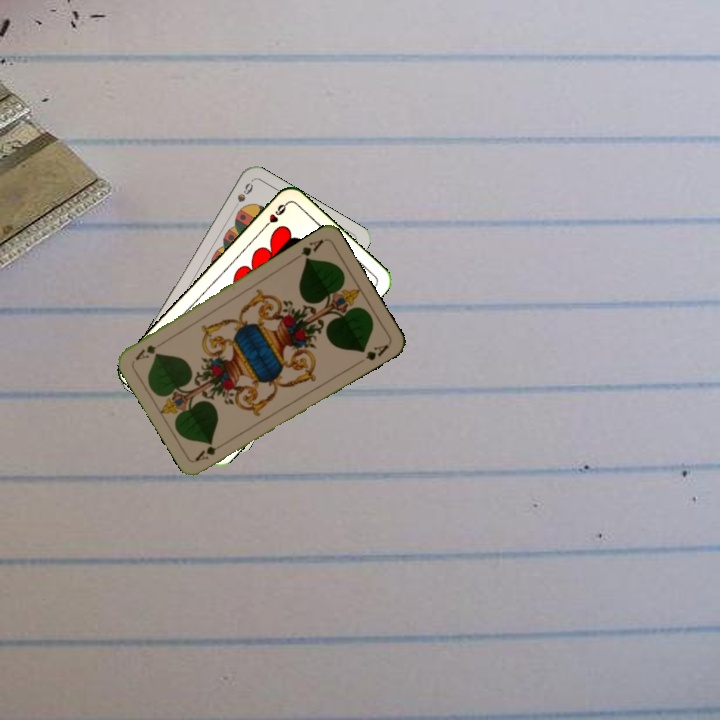GA: (290, 235, 326, 264), (191, 438, 229, 464)
H9: (259, 199, 290, 232)
S9: (228, 178, 256, 215)
